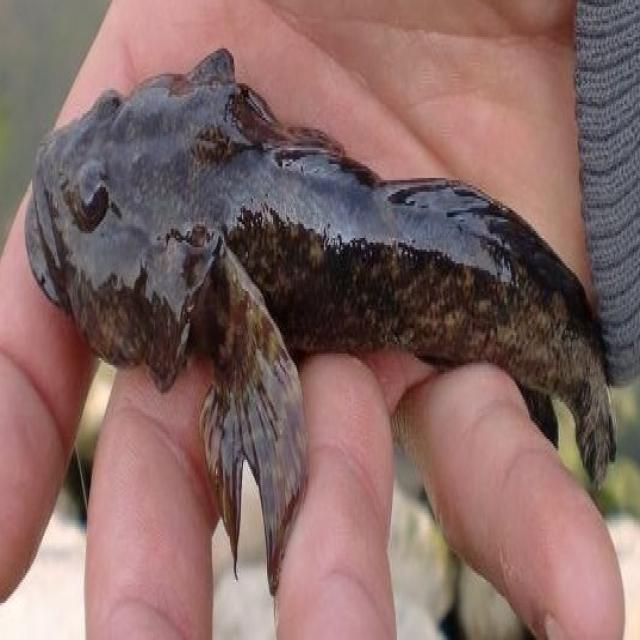Goby: (18, 38, 640, 599)
